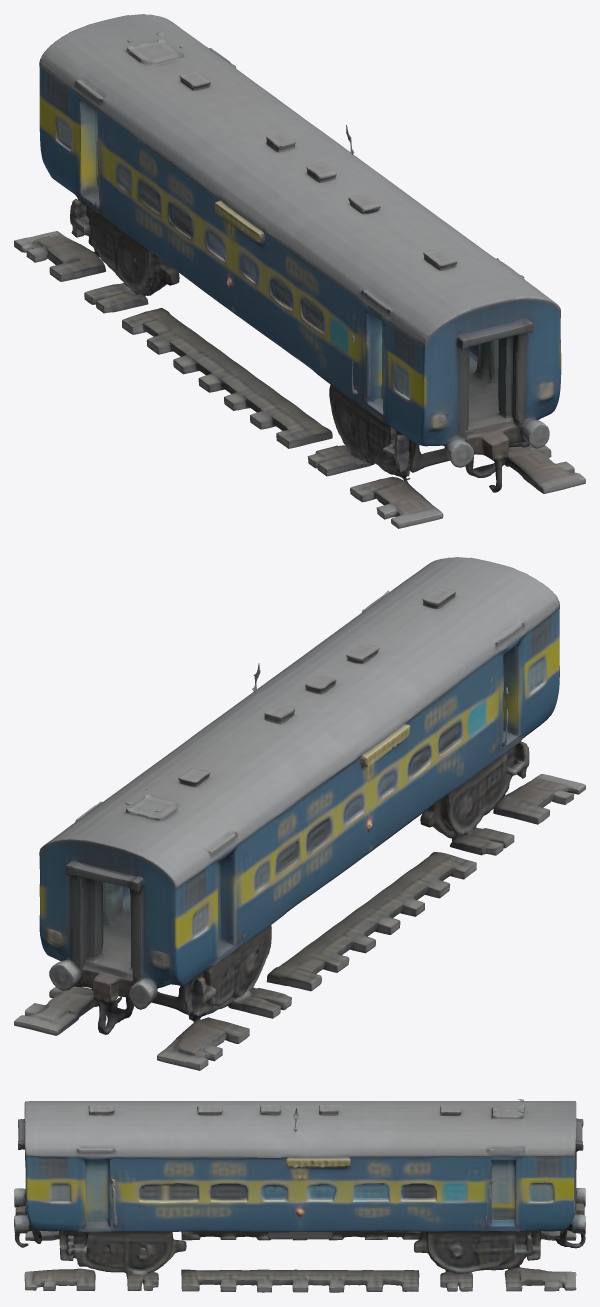
3 renders of one model, top to bottom at view 1: azimuth 30°, elevation 25°; view 2: azimuth 150°, elevation 25°; view 3: azimuth 270°, elevation 25°, orthographic. The views are drawn at different scales.
Parts seen in each view (by area): view 1: geometry_0; view 2: geometry_0; view 3: geometry_0.
Part boxes in pixels (bbox=[...]): geometry_0: bbox=[14, 14, 585, 528]; geometry_0: bbox=[14, 557, 585, 1070]; geometry_0: bbox=[14, 1099, 585, 1292].
Bounding box in the file's own units: 0.2764 × 0.3185 × 0.9923.
